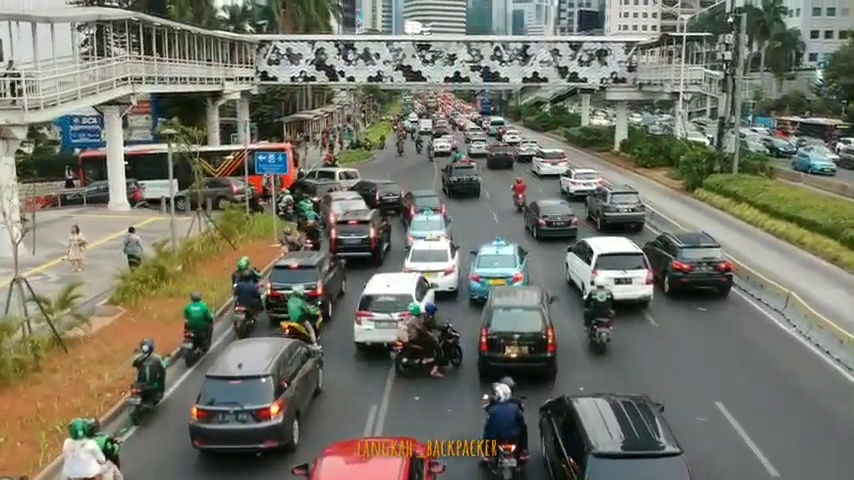car: (190, 336, 322, 454), (536, 395, 690, 480), (477, 285, 560, 386), (353, 272, 437, 357), (564, 239, 655, 313), (645, 231, 733, 303), (268, 252, 347, 327), (331, 207, 391, 272), (469, 241, 529, 303), (585, 182, 645, 237), (405, 239, 457, 301), (526, 197, 577, 242), (288, 179, 340, 220), (348, 179, 404, 217), (320, 193, 368, 234), (407, 210, 447, 249), (441, 163, 482, 198), (560, 168, 601, 202), (796, 150, 835, 181), (530, 148, 567, 177), (761, 134, 793, 160), (486, 142, 514, 170)
motorbike: (395, 303, 465, 379), (479, 383, 529, 477), (61, 417, 126, 480), (124, 342, 167, 427), (281, 286, 322, 347), (183, 292, 215, 370), (586, 277, 613, 356), (230, 274, 259, 338), (510, 177, 527, 212), (304, 222, 321, 253), (278, 191, 293, 223)
